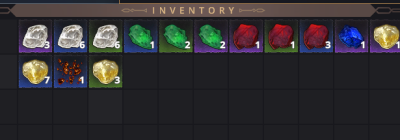chaos ember: (54, 56, 86, 87)
diamond gem: (19, 20, 52, 52), (54, 20, 87, 52), (90, 20, 122, 52)
emerald gem: (194, 19, 227, 53), (159, 19, 192, 51), (124, 20, 156, 52)
ruby gem: (229, 19, 262, 51), (300, 19, 332, 51), (265, 20, 297, 51)
sapphire gem: (335, 20, 367, 51)
topaz gem: (89, 54, 121, 87), (19, 55, 51, 87), (370, 20, 400, 52)
